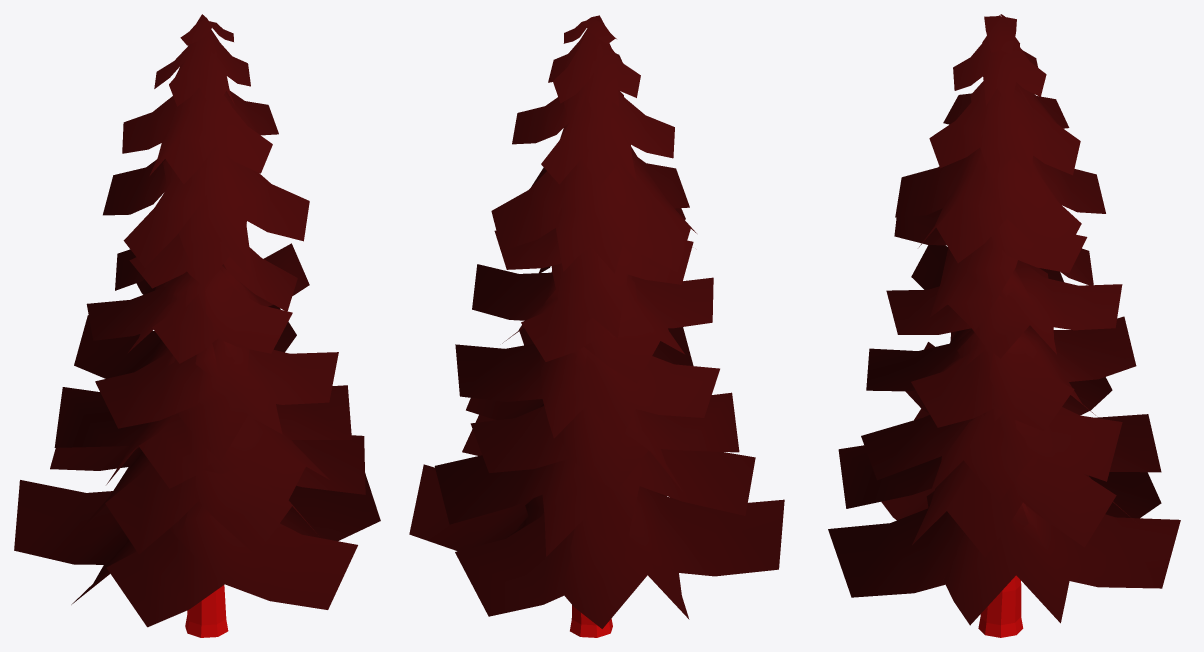
Rendered from SM_Tree_Pine_01.gltf.
3 views of the same model, side by side, from view 1: azimuth 30°, elevation 25°; view 2: azimuth 150°, elevation 25°; view 3: azimuth 270°, elevation 25° (orthographic).
Parts seen in each view (by area): view 1: SM_Tree_Pine_01; view 2: SM_Tree_Pine_01; view 3: SM_Tree_Pine_01.
Part boxes in pixels (x1,y1,x2,y2): SM_Tree_Pine_01: (14, 14, 380, 637); SM_Tree_Pine_01: (409, 15, 784, 637); SM_Tree_Pine_01: (828, 14, 1180, 637).
Bounding box in the file's own units: 3.14 × 5.68 × 3.17.
